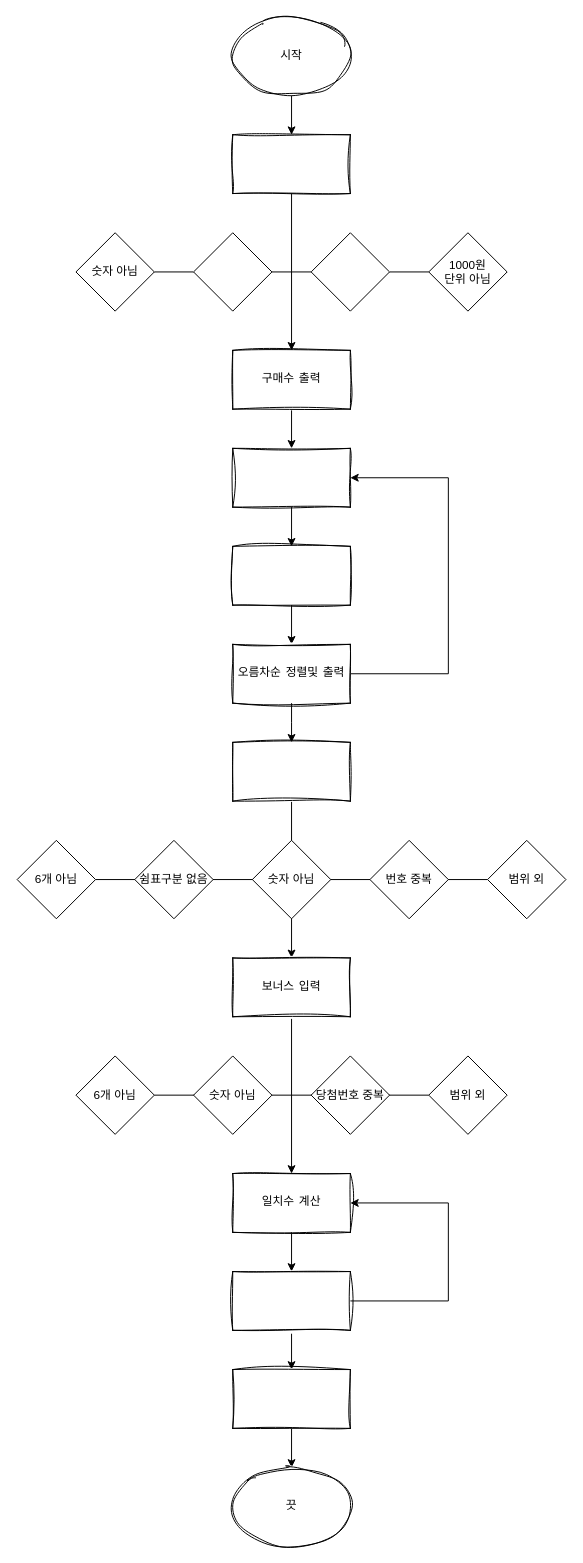
The diagram is 583 pixels wide and 1563 high, and some of its shapes have lost their labels. Here are the shapes that lost their labels. From the top down, the centre of each, then its label:
[291,164]: 구입금액 입력
[232,271]: 빈 메시지
[350,271]: 자연수 아님
[291,477]: 겹치지 않는 랜덤 6개 생성
[291,575]: 보너스 생성
[291,771]: 당첨번호 입력
[291,1300]: 갯수 * 당첨값 += 총합
[291,1398]: 구입금액 / 총합 * 100 출력
